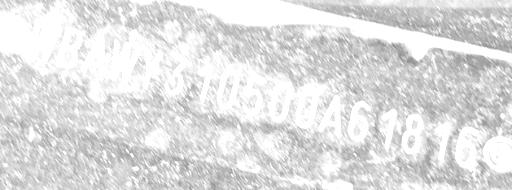letter: (29, 18, 63, 61), (110, 39, 142, 82), (316, 92, 342, 136), (80, 35, 106, 78), (242, 73, 268, 115), (293, 86, 319, 128), (56, 27, 82, 68), (346, 99, 370, 142), (400, 112, 424, 155), (454, 123, 478, 166), (268, 80, 292, 122), (164, 55, 188, 95), (216, 68, 240, 106), (142, 47, 164, 88), (433, 119, 451, 162), (380, 107, 398, 148), (196, 62, 214, 102)
